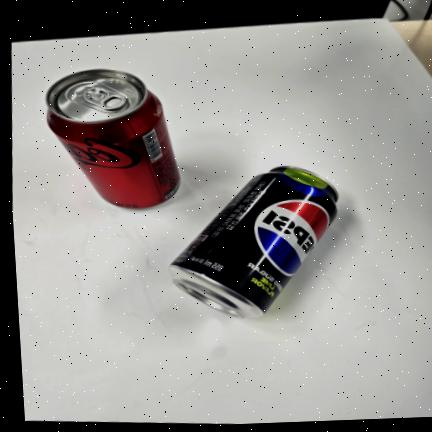can_coke_zero: (46, 70, 180, 208)
can_pepsi_zero: (169, 167, 337, 318)
